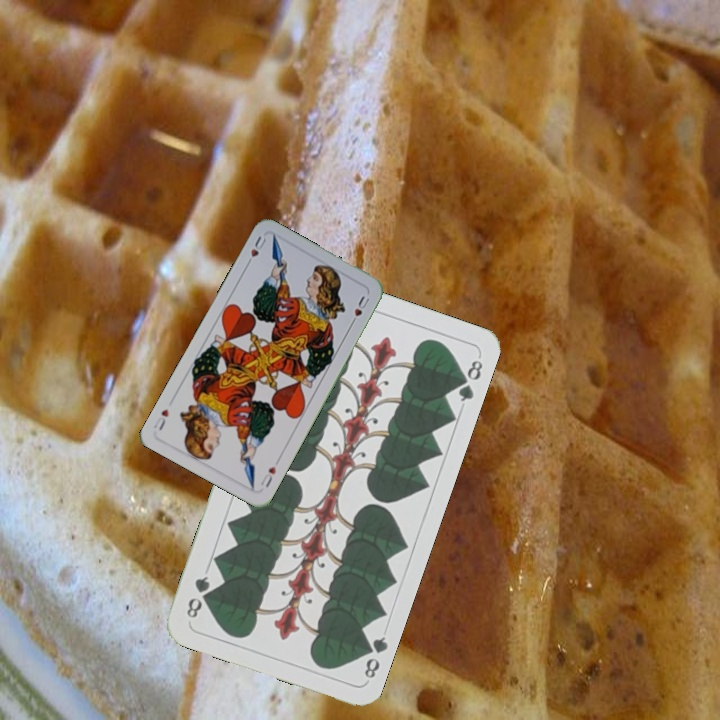G8: (357, 632, 390, 681)
HU: (242, 232, 270, 269), (256, 462, 279, 490)
